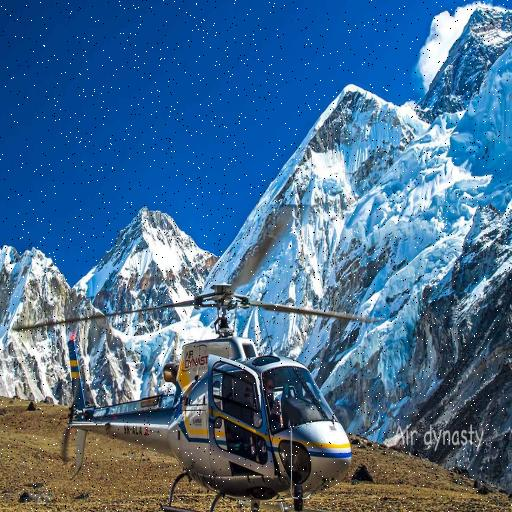helicopter: (1, 264, 394, 512)
